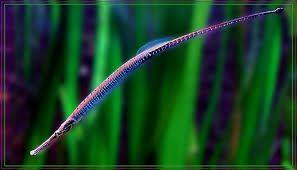Long-Snouted Pipefish: (29, 4, 286, 158)
